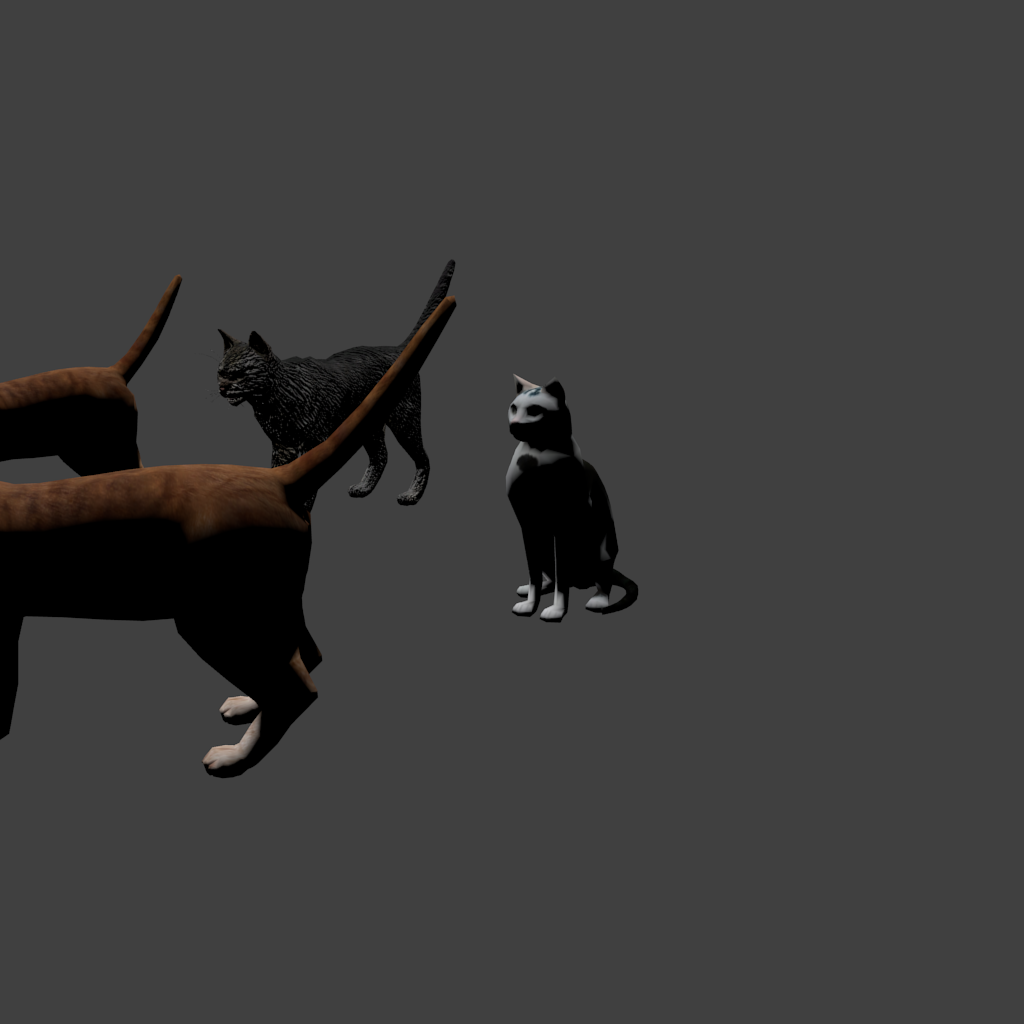Cat: (0, 296, 457, 484)
